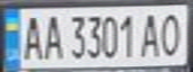0: (103, 11, 121, 58)
1: (118, 11, 139, 58)
3: (63, 11, 87, 60), (84, 11, 106, 60)
A: (18, 11, 45, 61), (39, 11, 66, 61), (136, 10, 163, 58)
O: (157, 9, 187, 57)
